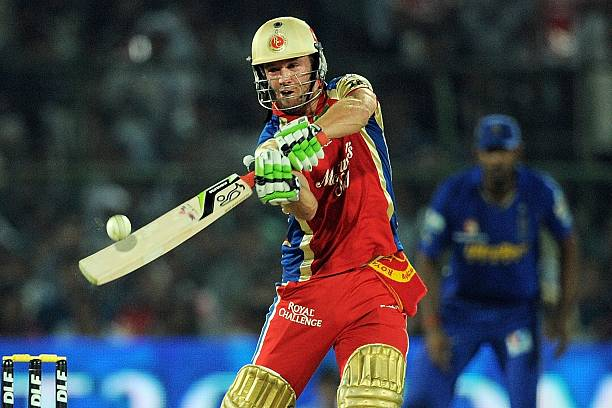bottom left: (72, 256, 87, 271)
bottom right: (89, 274, 107, 292)
top left: (227, 167, 243, 183)
top right: (242, 187, 256, 201)
